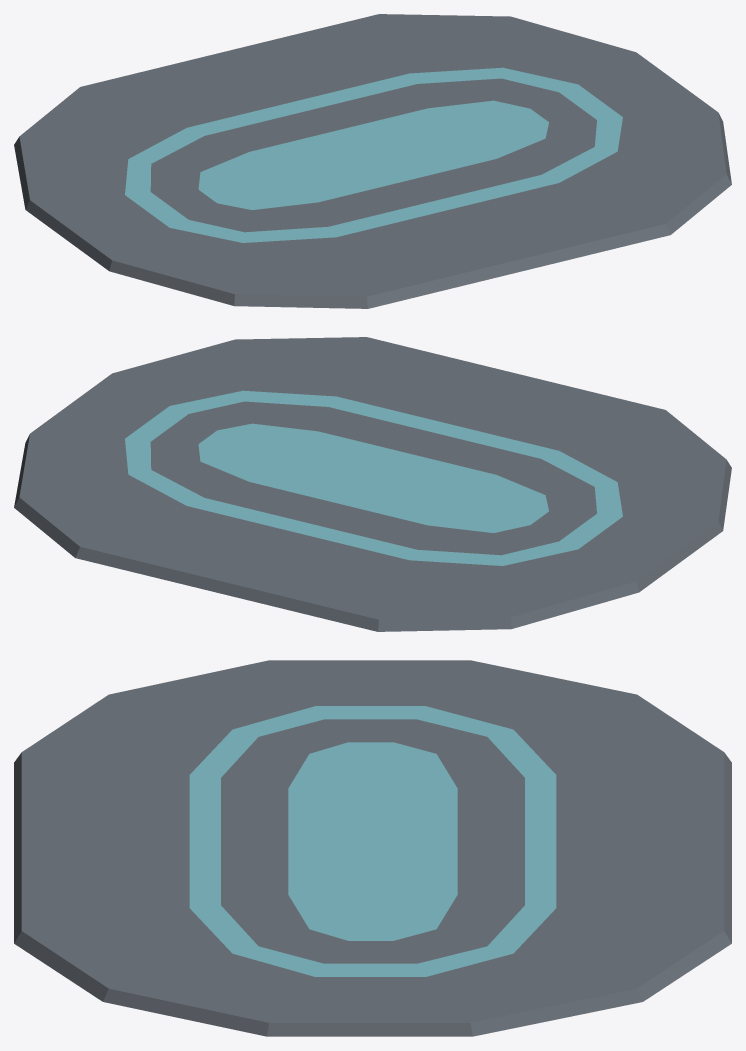
Rendered from Rug_01.FBX.
3 renders of one model, top to bottom at view 1: azimuth 30°, elevation 25°; view 2: azimuth 150°, elevation 25°; view 3: azimuth 270°, elevation 25°, orthographic. The views are drawn at different scales.
Parts seen in each view (by area): view 1: Rug_01; view 2: Rug_01; view 3: Rug_01.
Part boxes in pixels (<box>): Rug_01: <box>14,14,731,308</box>; Rug_01: <box>14,337,731,631</box>; Rug_01: <box>14,660,731,1036</box>.
Size of the model in its own units: 213 by 3.14 by 176.
